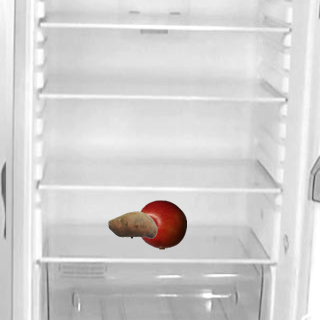Apple Braeburn: (136, 199, 186, 249)
Potato Sweet: (107, 199, 157, 249)
